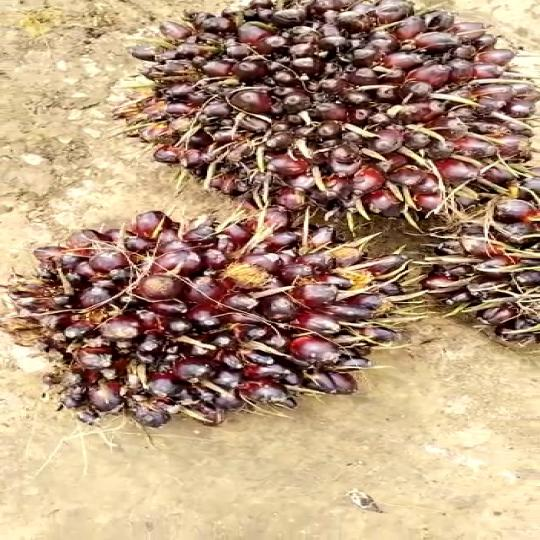mentah: (138, 0, 528, 228), (23, 205, 387, 427)
